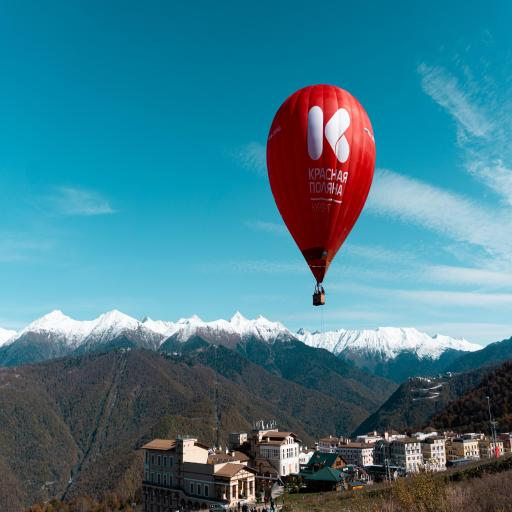hot air ballon: (267, 85, 375, 306)
